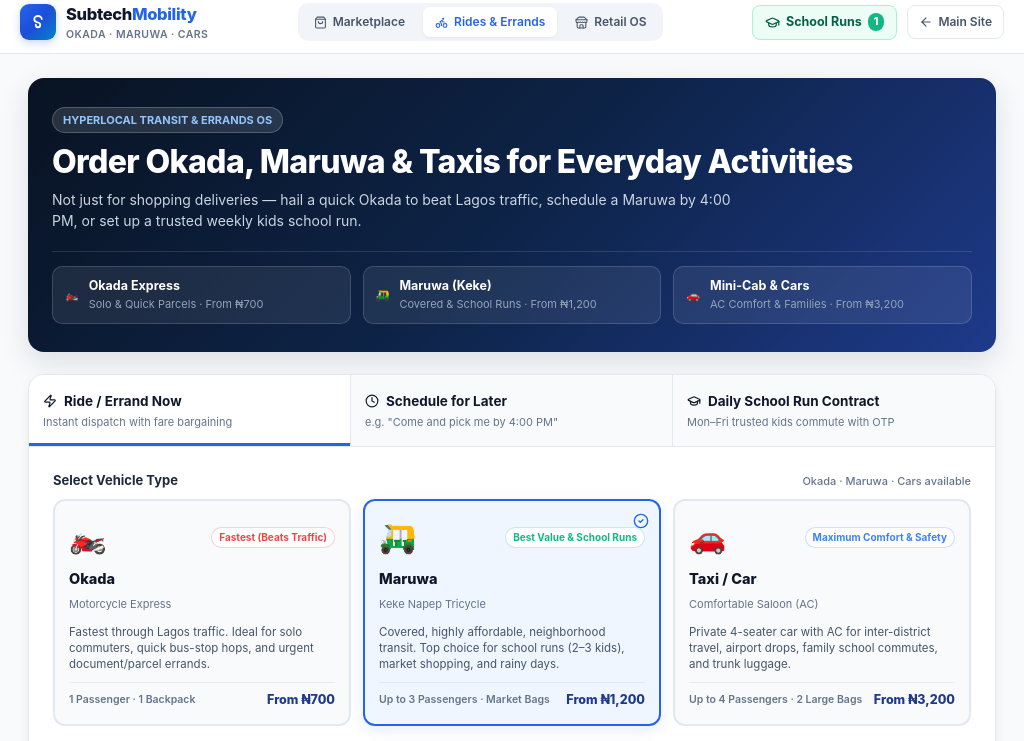
Test: Subtech Mobility (STV Rides & Errands) › toggles service modes between Ride Now, Scheduled, and School Run
The width and height of the screenshot is (1024, 741).
// Switch to Schedule for Later ("Come and pick me by 4pm")
Step 1. Click the button "Schedule for Later e.g. \"Come and pick me by 4:00 PM\"" → [446, 401], box [351, 375, 673, 446]
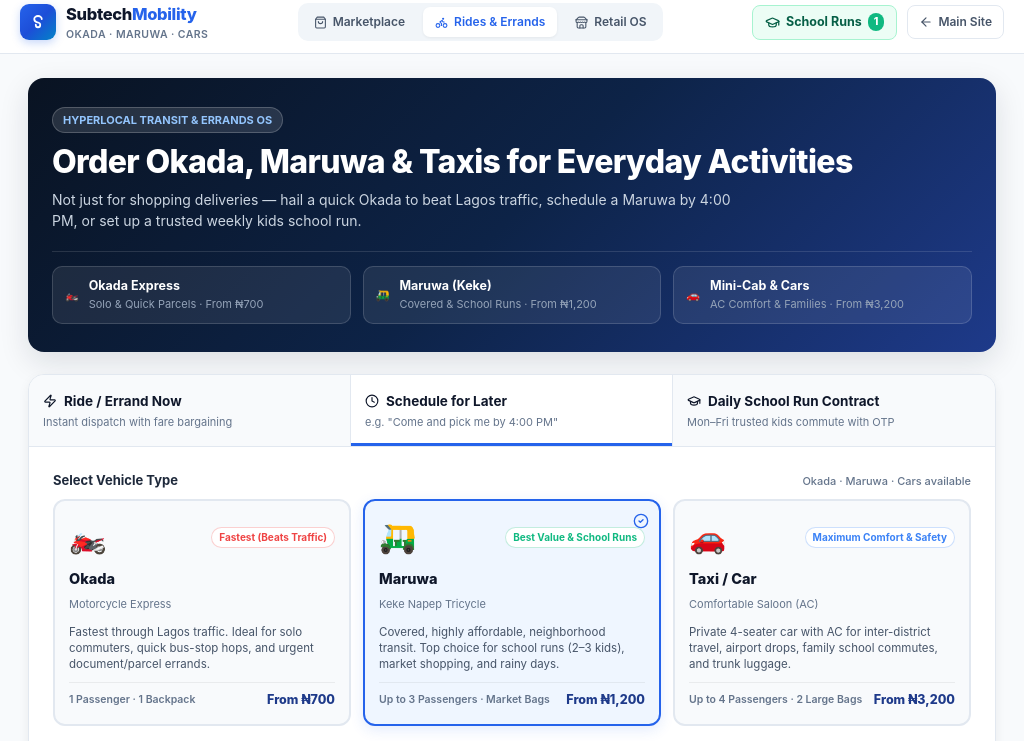
// Switch to Daily School Run Contract
Step 2. Click the button "Daily School Run Contract" → [834, 410], box [673, 375, 995, 446]
(page scrolled)
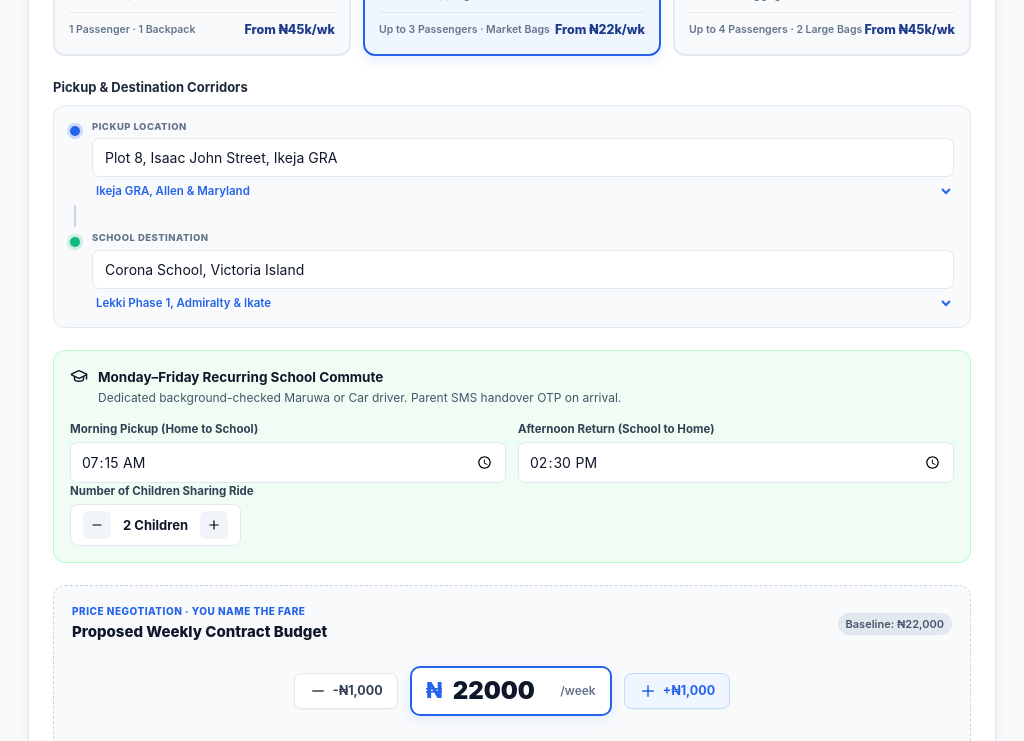
Result: the text "Monday–Friday Recurring School Commute" is shown at [98, 369, 383, 385]
